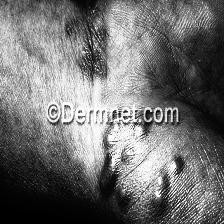Toxin: (97, 155, 119, 194), (150, 174, 170, 214), (168, 153, 184, 180), (121, 144, 133, 162)
